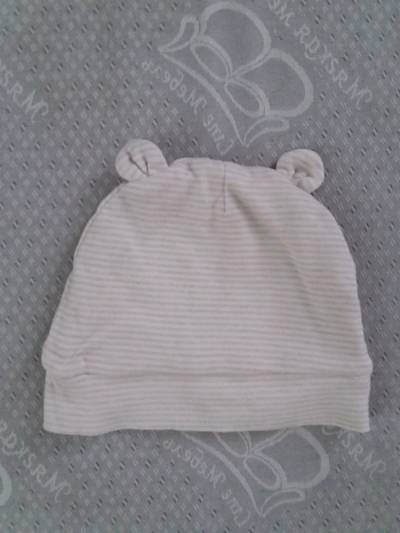Hat: (32, 125, 367, 450)
